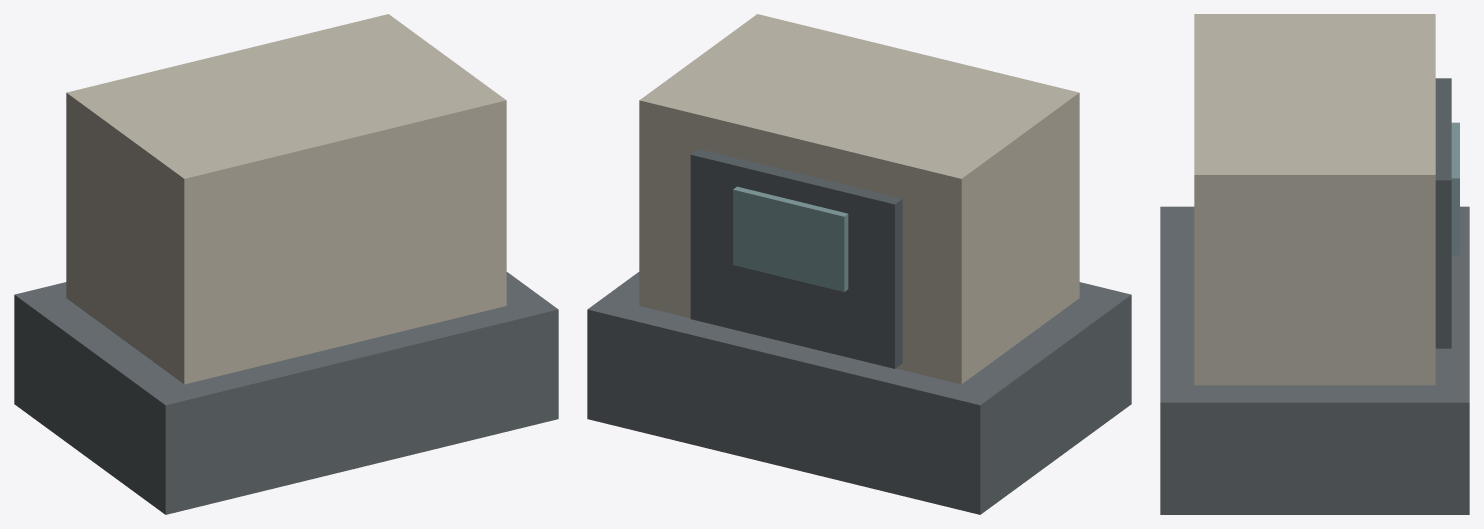
The model's file is iz3_environment_shrub_01.glb.
3 views of the same model, side by side, from view 1: azimuth 30°, elevation 25°; view 2: azimuth 150°, elevation 25°; view 3: azimuth 270°, elevation 25° (orthographic). The views are drawn at different scales.
Visible parts, largest first — view 1: cabinet, base; view 2: cabinet, base, panel, display; view 3: cabinet, base, panel, display.
Boxes of the visible parts, <box> form: cabinet: <box>66,14,506,384</box>; base: <box>14,272,558,514</box>; cabinet: <box>639,14,1079,384</box>; base: <box>587,272,1131,514</box>; panel: <box>690,149,902,368</box>; display: <box>733,186,848,291</box>; cabinet: <box>1194,14,1435,385</box>; base: <box>1160,206,1469,514</box>; panel: <box>1435,78,1451,348</box>; display: <box>1451,122,1459,255</box>.
Bounding box in the file's own units: 1.2 × 0.92 × 0.8.
